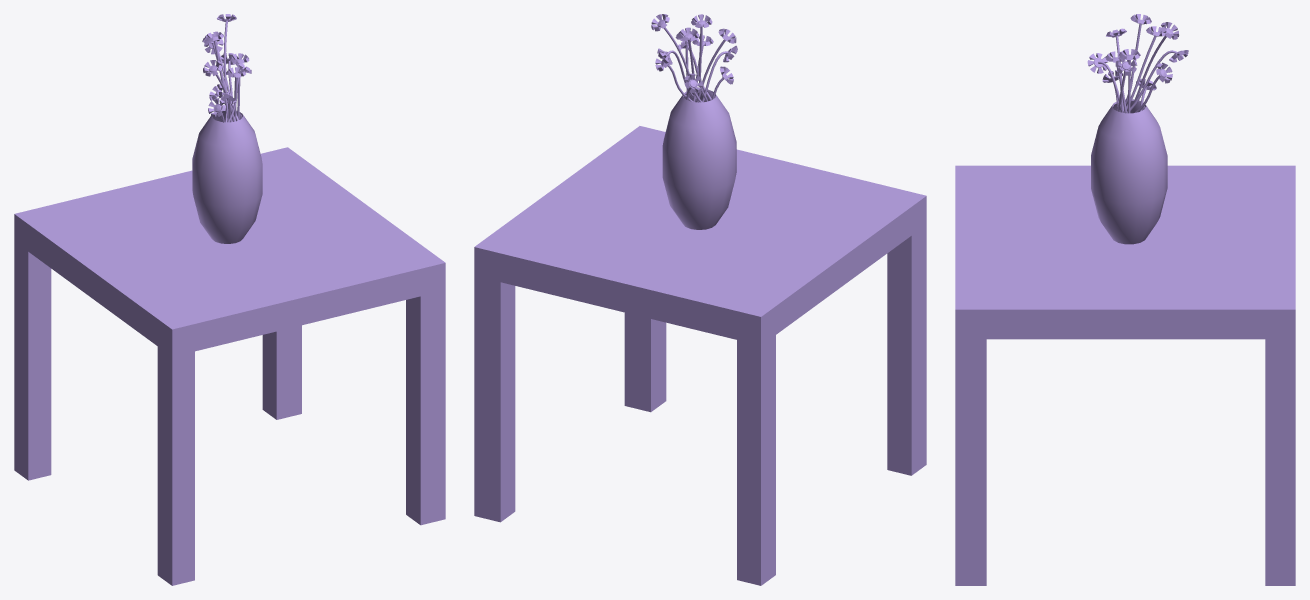
The model's file is table basse.glb.
The picture shows the model from 3 angles, left to right: view 1: azimuth 30°, elevation 25°; view 2: azimuth 150°, elevation 25°; view 3: azimuth 270°, elevation 25°; orthographic projection. The views are drawn at different scales.
Visible parts, largest first — view 1: Box001; view 2: Box001; view 3: Box001.
Boxes of the visible parts, x1,y1,x2,y2 form: Box001: (14,14,445,585); Box001: (474,14,926,585); Box001: (955,14,1295,585).
Bounding box in the file's own units: 0.5 × 0.8093 × 0.5.
